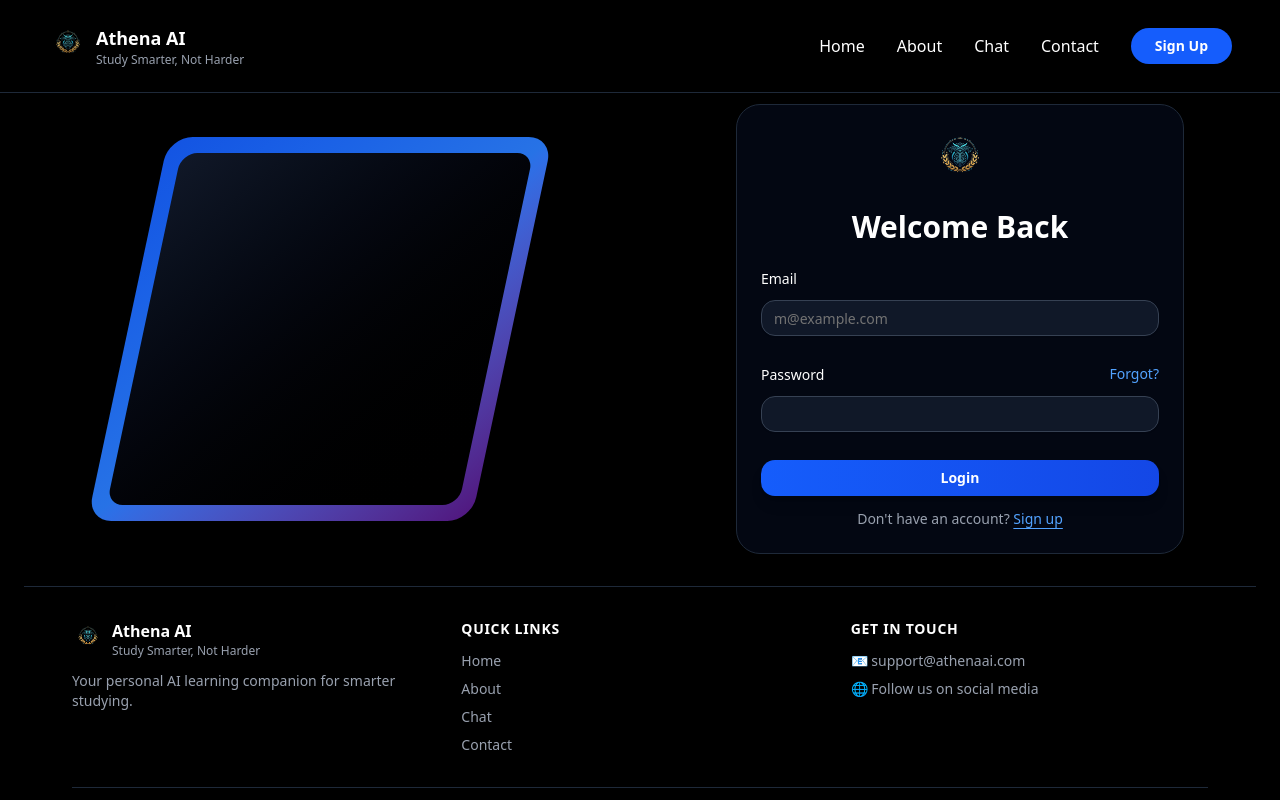
Test case: LoginForm › shows the server's error for wrong credentials
Type "me@example.com" into the field labelled "Email" at (960, 318), box [761,300,1159,336]
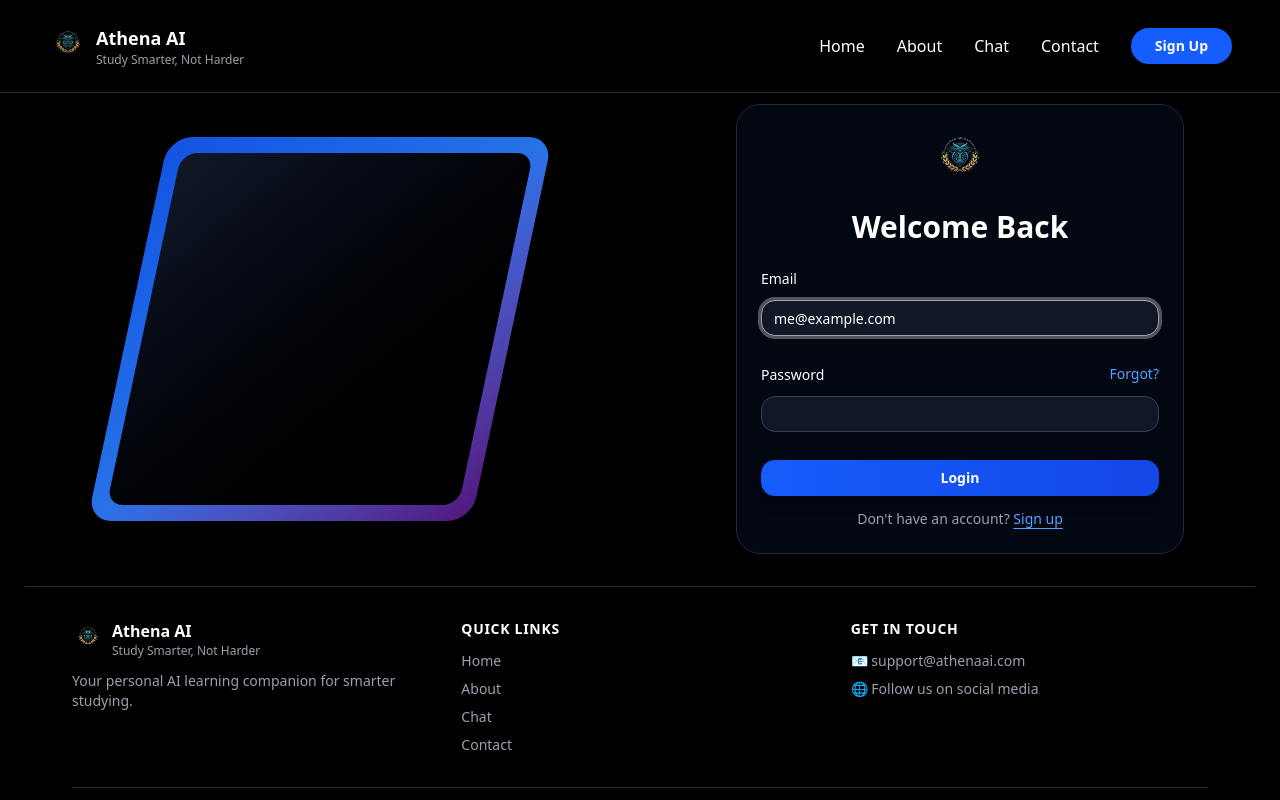
Type "wrongpass" into the password field labelled "Password" at (960, 414), box [761,396,1159,432]
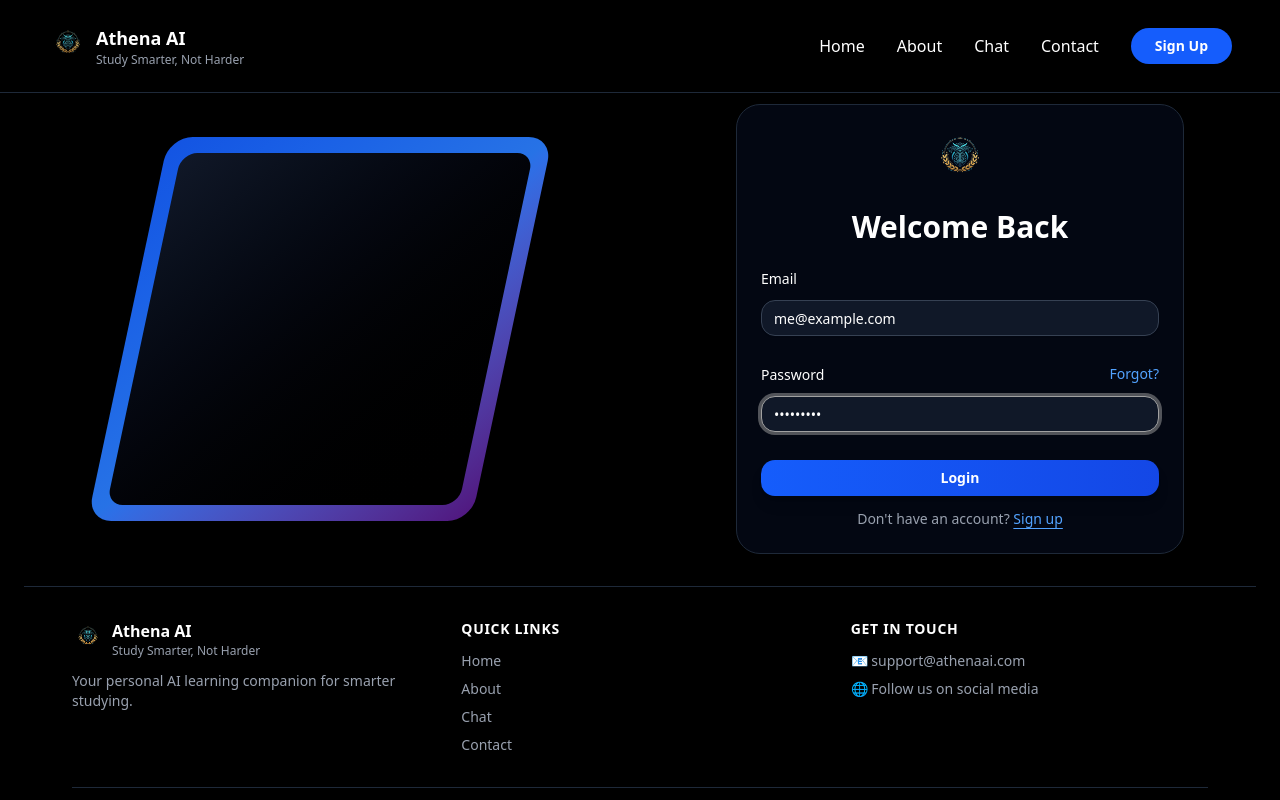
Click the submit button at (960, 478), box [761,460,1159,496]
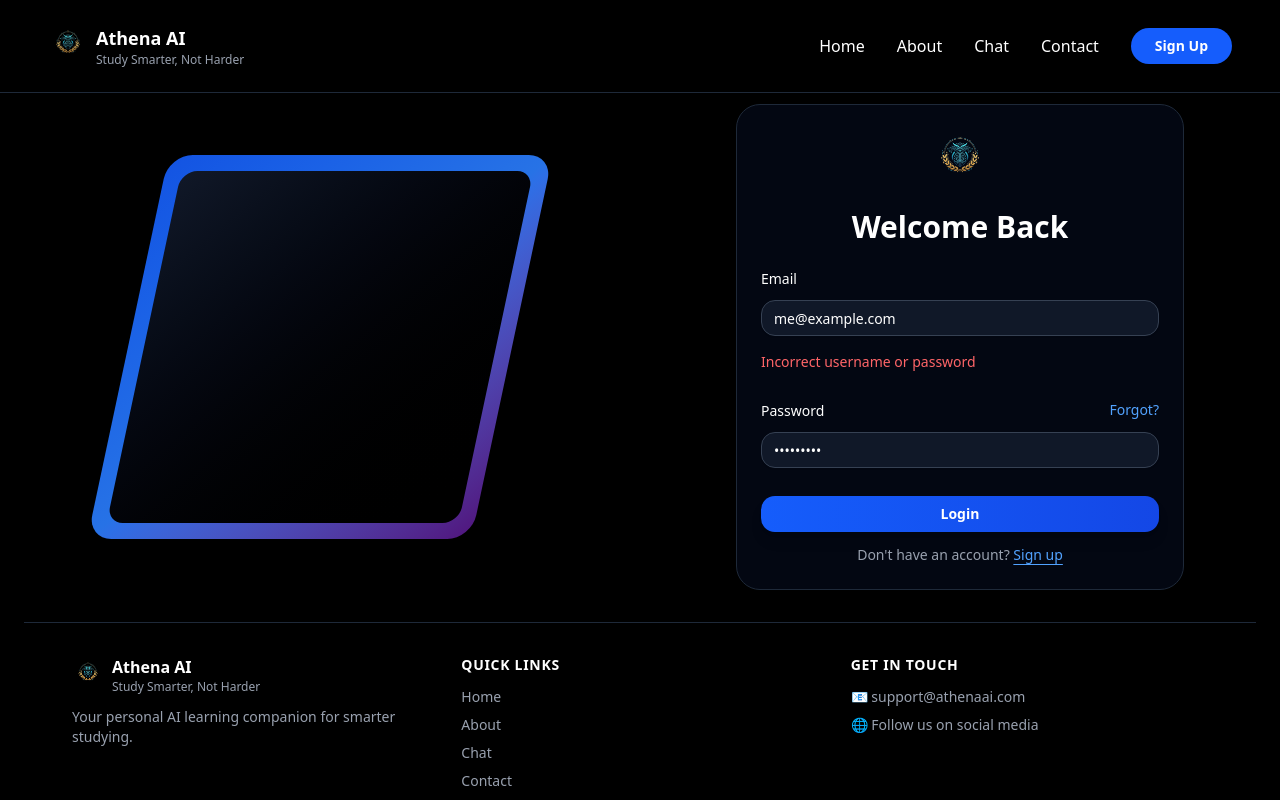
expect the text "Incorrect username or password" is shown: met, box [761,352,976,371]
